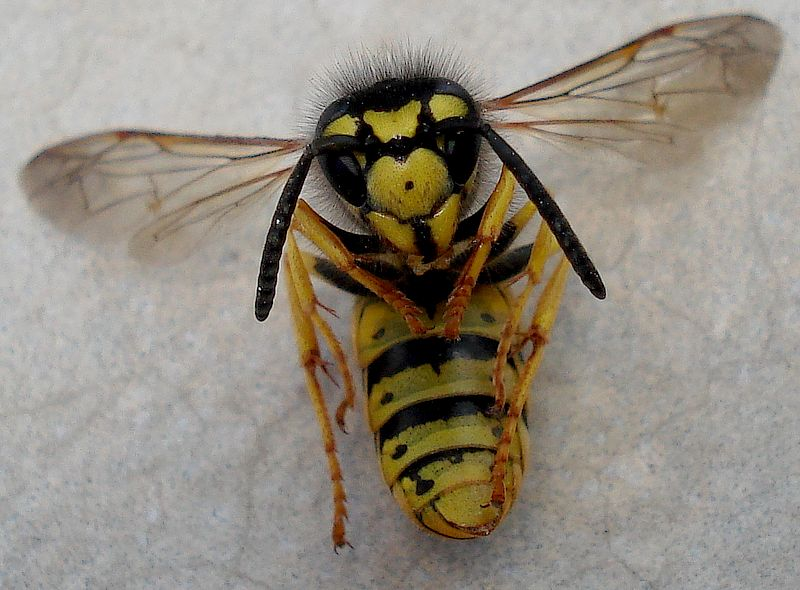chax: (1, 4, 794, 576)
